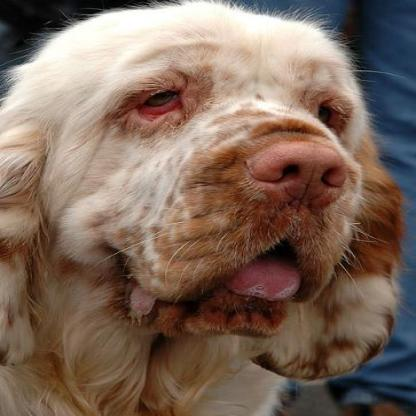clumber: (0, 0, 406, 414)
